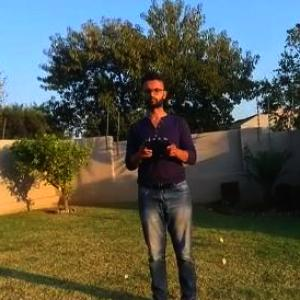follow: (114, 67, 199, 299)
